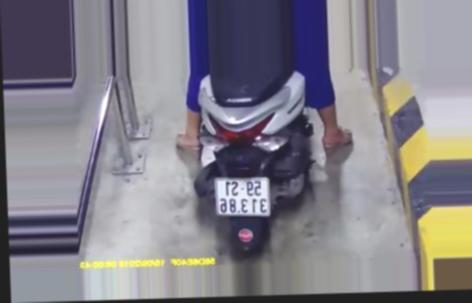License_Plate: (213, 171, 276, 219)
